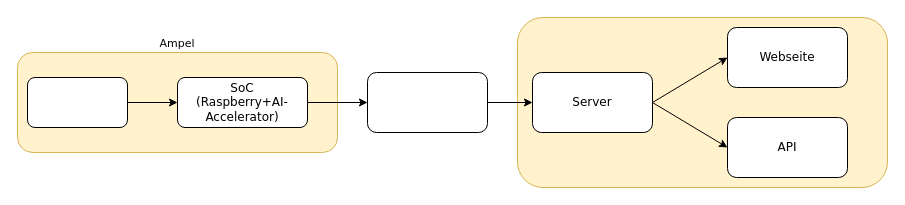
Image size: 905x205. Some labels were removed from this diagram. Here are the shapes that lost their labels. From the top down, the box of each, then its label:
(26, 76, 128, 128): Kamerabild
(366, 72, 488, 132): LoRa Netzwerk
